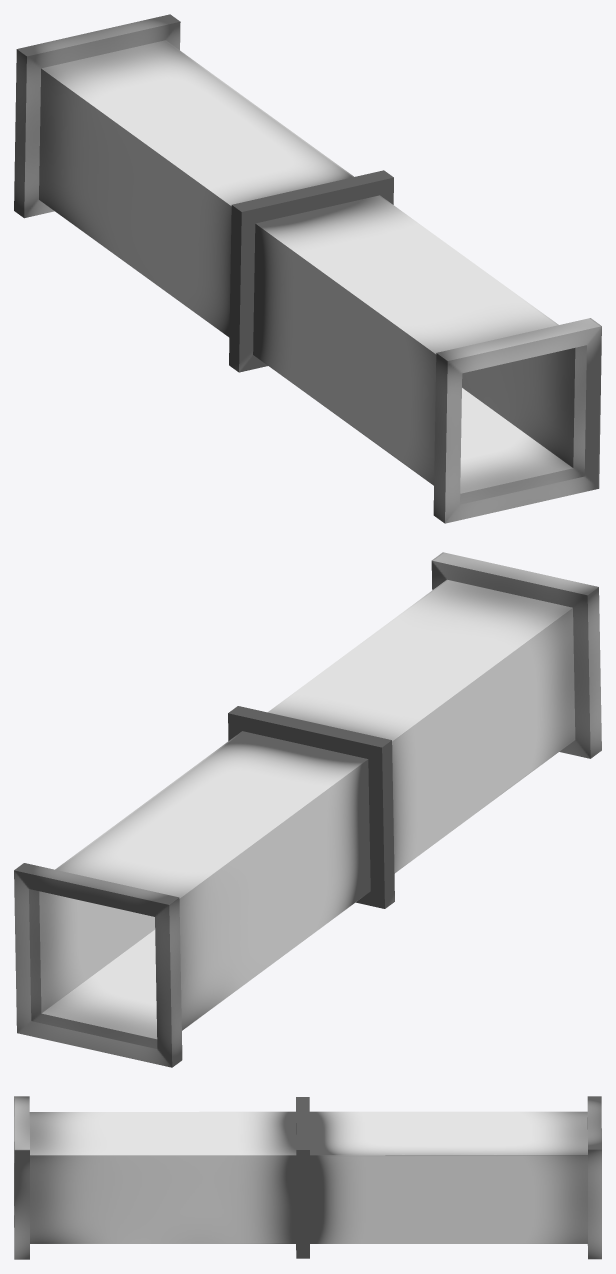
The model's file is Vent2.fbx.
3 renders of one model, top to bottom at view 1: azimuth 30°, elevation 25°; view 2: azimuth 150°, elevation 25°; view 3: azimuth 270°, elevation 25°, orthographic. The views are drawn at different scales.
Parts seen in each view (by area): view 1: _ConstrucSteelAndAirway.001; view 2: _ConstrucSteelAndAirway.001; view 3: _ConstrucSteelAndAirway.001.
Part boxes in pixels (x1=…): _ConstrucSteelAndAirway.001: x1=14, y1=14, x2=601, y2=523; _ConstrucSteelAndAirway.001: x1=14, y1=552, x2=601, y2=1067; _ConstrucSteelAndAirway.001: x1=14, y1=1096, x2=601, y2=1259.
Size of the model in its own units: 253 by 250 by 1178.
1 material, 1 textured.
